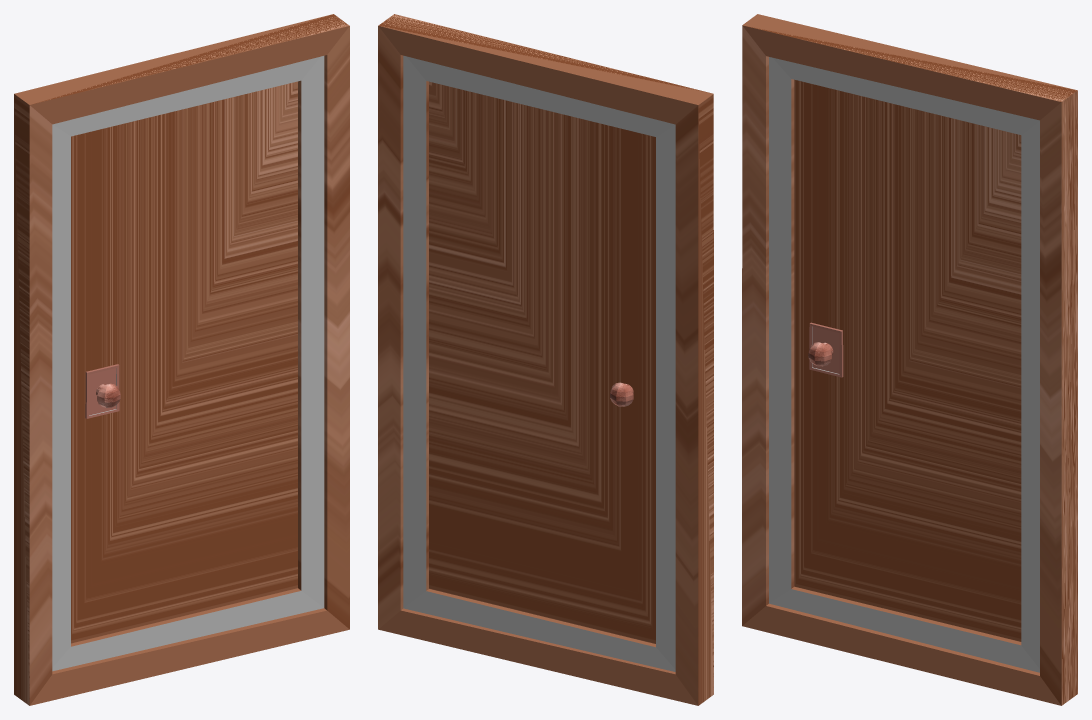
The model's file is Puerta.fbx.
3 renders of one model, left to right at view 1: azimuth 30°, elevation 25°; view 2: azimuth 150°, elevation 25°; view 3: azimuth 330°, elevation 25°, orthographic.
Visible parts, largest first — view 1: Cube.012; view 2: Cube.012; view 3: Cube.012.
Boxes of the visible parts, x1,y1,x2,y2 form: Cube.012: (14,14,349,705); Cube.012: (378,14,713,705); Cube.012: (742,14,1077,705).
Bounding box in the file's own units: 1.49 × 2.68 × 0.2099.
